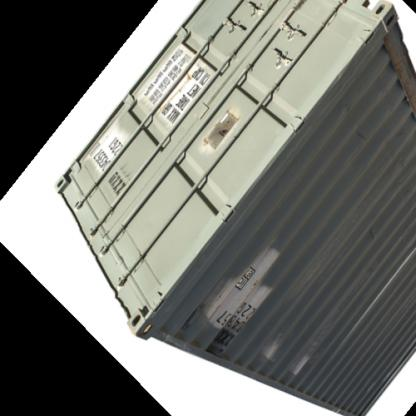Damage: (389, 43, 413, 124)
